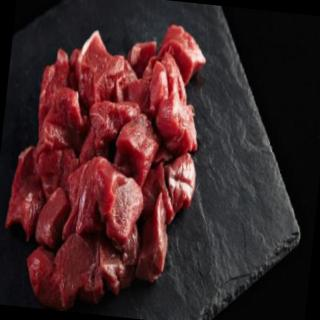Daging Sapi: (1, 10, 212, 320), (146, 56, 208, 155), (52, 233, 111, 312), (63, 155, 118, 236), (75, 29, 128, 108), (7, 144, 47, 244), (134, 192, 173, 286), (113, 111, 160, 187), (159, 23, 211, 89), (42, 83, 90, 154), (104, 172, 147, 245), (35, 187, 72, 250), (24, 247, 62, 308), (163, 157, 199, 216)
